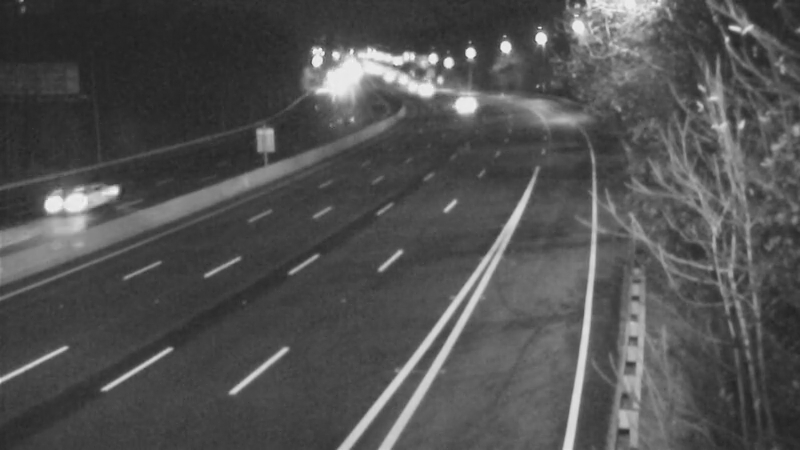vehicle: (34, 164, 114, 244), (387, 61, 437, 111), (401, 65, 451, 115), (438, 77, 488, 127)
